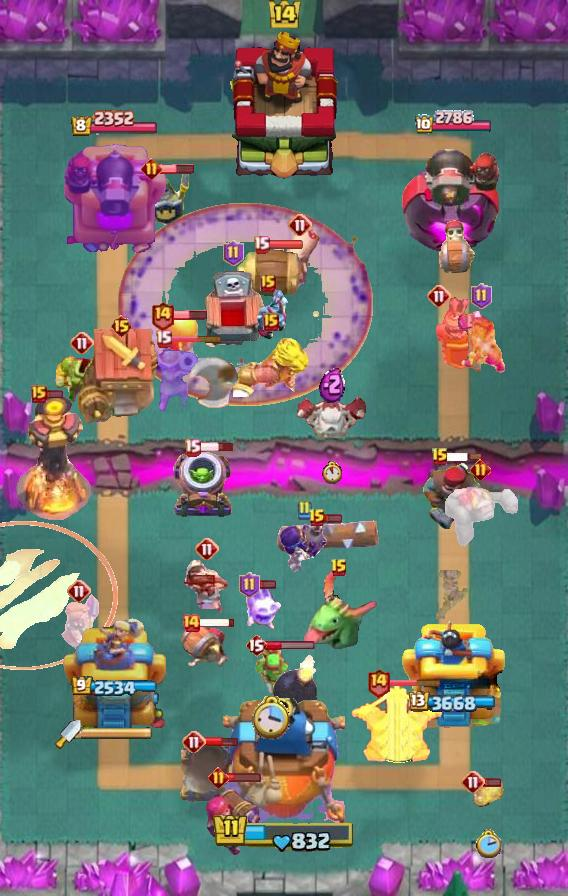axe: (186, 356, 242, 410)
bar: (265, 640, 316, 651), (388, 678, 442, 687), (169, 334, 223, 343), (198, 441, 235, 453), (172, 309, 208, 321), (159, 163, 195, 175), (204, 736, 239, 748), (199, 617, 236, 628), (226, 772, 262, 783), (268, 239, 304, 250), (447, 452, 483, 462), (483, 777, 502, 788), (258, 579, 277, 590), (324, 513, 343, 524), (45, 389, 64, 399)
bar-level: (366, 667, 391, 698), (150, 300, 175, 331), (461, 770, 485, 794), (182, 730, 206, 754), (67, 579, 91, 603), (195, 537, 219, 561), (70, 331, 94, 355), (427, 284, 451, 308), (288, 213, 312, 237), (110, 314, 133, 338), (239, 572, 260, 598), (471, 283, 492, 309), (223, 240, 244, 266), (245, 633, 267, 657), (208, 767, 229, 788), (470, 459, 491, 480), (141, 158, 162, 179), (181, 613, 201, 633), (330, 558, 348, 578), (308, 508, 326, 528), (431, 447, 449, 467), (184, 438, 201, 457), (155, 329, 172, 348), (253, 235, 270, 254), (296, 500, 312, 520), (31, 385, 47, 403), (263, 313, 279, 331), (260, 274, 276, 292)
barbarian-barrel: (235, 250, 311, 300)
bomb: (272, 652, 318, 711)
bomber-evolution: (278, 519, 330, 575)
cannoneer-tower: (60, 138, 168, 256), (401, 138, 505, 256)
clock: (252, 696, 291, 741), (475, 829, 501, 858), (321, 461, 343, 484)
dagger-duchess-tower: (62, 615, 167, 731)
dagger-duchess-tower-bar: (81, 727, 153, 741)
dirt: (428, 570, 472, 619)
elixir: (319, 366, 345, 403)
firecracker-evolution: (204, 780, 262, 858)
goblin-brawler: (52, 350, 112, 404)
golemite: (441, 483, 519, 547)
guard: (144, 165, 192, 225)
hog: (277, 225, 323, 277)
hunter: (420, 461, 486, 531)
ice-spirit-evolution: (245, 581, 285, 631)
king-tower: (222, 31, 346, 181), (223, 698, 345, 826)
king-tower-bar: (212, 812, 356, 854)
lava-pup: (470, 778, 506, 810)
minion: (247, 290, 289, 342)
mortar: (177, 739, 241, 805)
mortar-evolution: (171, 450, 235, 520)
musketeer: (156, 343, 198, 413)
phoenix-egg: (161, 311, 201, 355)
princess: (183, 556, 231, 614)
queen-tower: (399, 617, 507, 731)
royal-recruit: (425, 297, 479, 373)
spear-goblin: (249, 647, 293, 695)
the-log: (276, 520, 383, 556)
tower-bar: (70, 110, 159, 138), (414, 110, 493, 136), (409, 691, 498, 714), (71, 676, 158, 698)
valkyrie-evolution: (455, 308, 507, 376), (58, 594, 100, 658)
wall-breaker: (179, 621, 233, 673), (435, 220, 485, 276)
